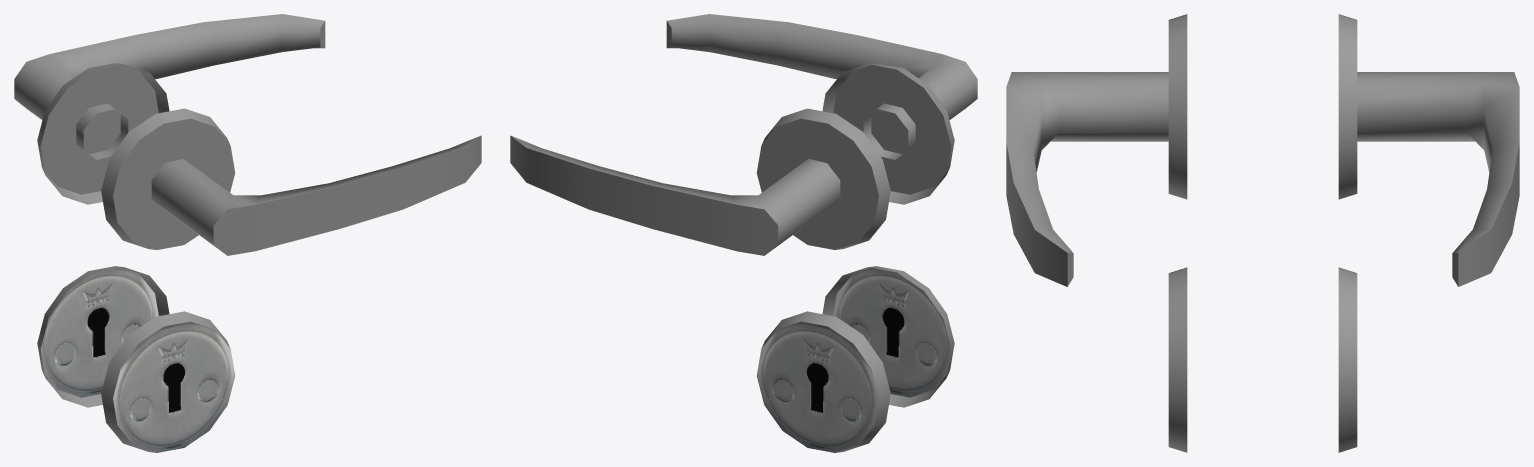
File: Door_handle_inner.FBX
The picture shows the model from 3 angles, left to right: view 1: azimuth 30°, elevation 25°; view 2: azimuth 150°, elevation 25°; view 3: azimuth 270°, elevation 25°; orthographic projection. The views are drawn at different scales.
Parts seen in each view (by area): view 1: Habo_2595; view 2: Habo_2595; view 3: Habo_2595.
Boxes of the visible parts, x1,y1,x2,y2 form: Habo_2595: [14, 14, 481, 452]; Habo_2595: [510, 14, 977, 452]; Habo_2595: [1006, 14, 1519, 452].
Bounding box in the file's own units: 0.127 × 0.1233 × 0.136.
2 materials, 1 textured.
